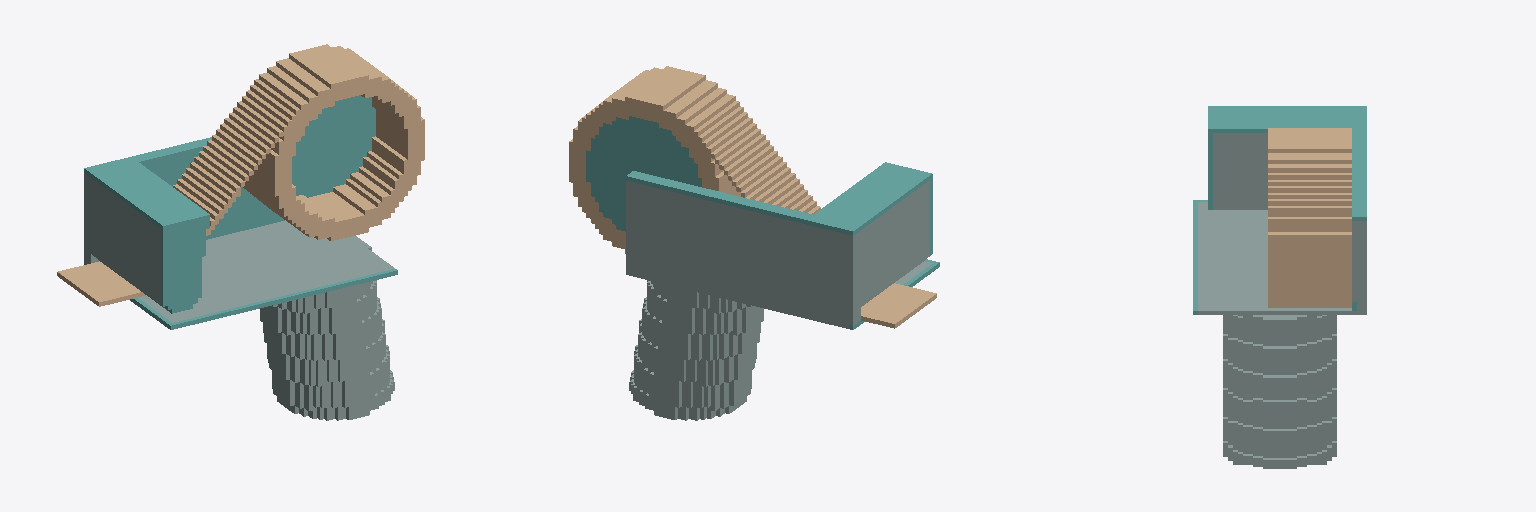
3 renders of one model, left to right at view 1: azimuth 30°, elevation 25°; view 2: azimuth 150°, elevation 25°; view 3: azimuth 270°, elevation 25°, orthographic.
Visible parts, largest first — view 1: TapeDevice; view 2: TapeDevice; view 3: TapeDevice.
Part boxes in pixels (x1,y1,x2,y2): TapeDevice: (57,44,424,420); TapeDevice: (569,66,939,420); TapeDevice: (1193,106,1366,468).
Size of the model in its own units: 7.6 by 7.1 by 3.5.
Materials: 1 (1 with a texture image).